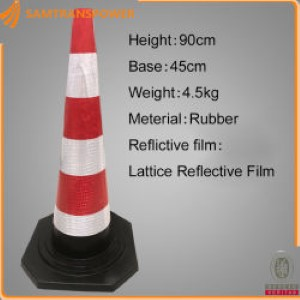traffic cone: (21, 8, 139, 292)
